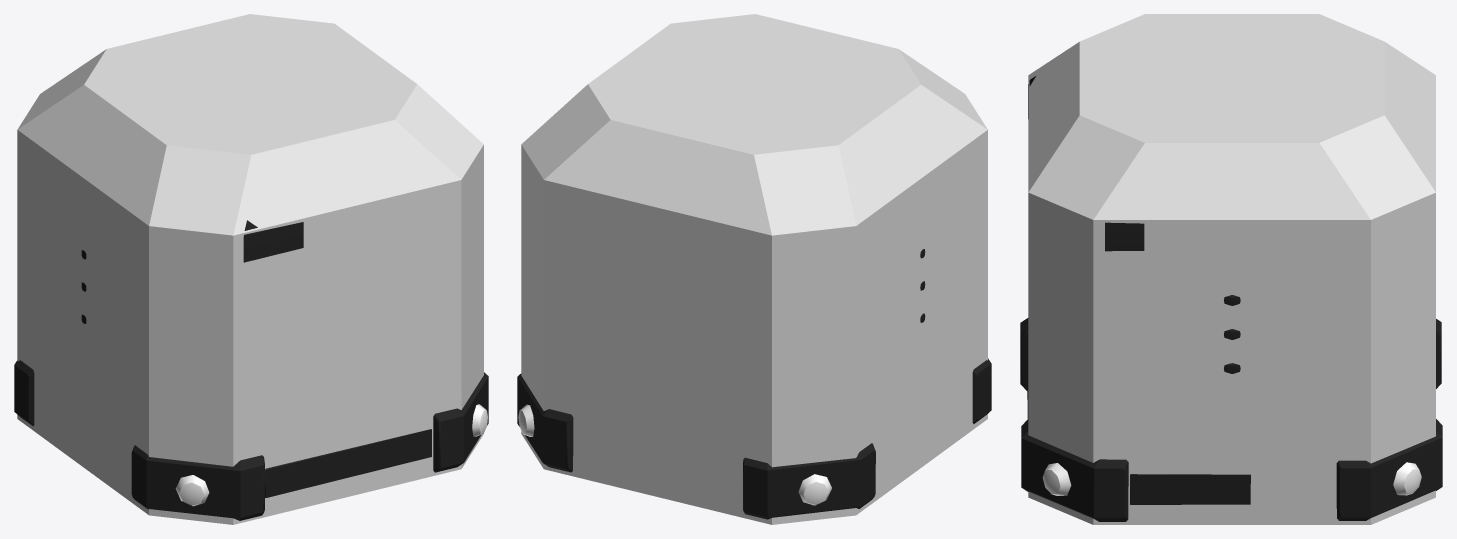
The model's file is ArenaCrateRed.fbx.
The picture shows the model from 3 angles, left to right: view 1: azimuth 30°, elevation 25°; view 2: azimuth 150°, elevation 25°; view 3: azimuth 270°, elevation 25°; orthographic projection. The views are drawn at different scales.
Visible parts, largest first — view 1: Cube, Crate; view 2: Cube, Crate; view 3: Cube, Crate.
Part boxes in pixels (bbox=[...]): Cube: bbox=[17, 14, 483, 524]; Crate: bbox=[14, 220, 488, 520]; Cube: bbox=[521, 14, 987, 524]; Crate: bbox=[517, 249, 991, 519]; Cube: bbox=[1028, 14, 1435, 524]; Crate: bbox=[1020, 76, 1442, 521].
Size of the model in its own units: 117 by 111 by 118.
